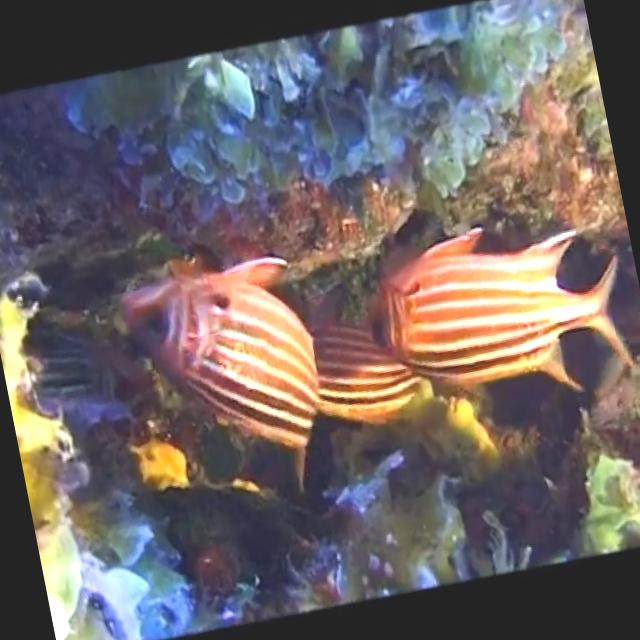Asker Baligi: (105, 222, 353, 498), (341, 194, 640, 420)
